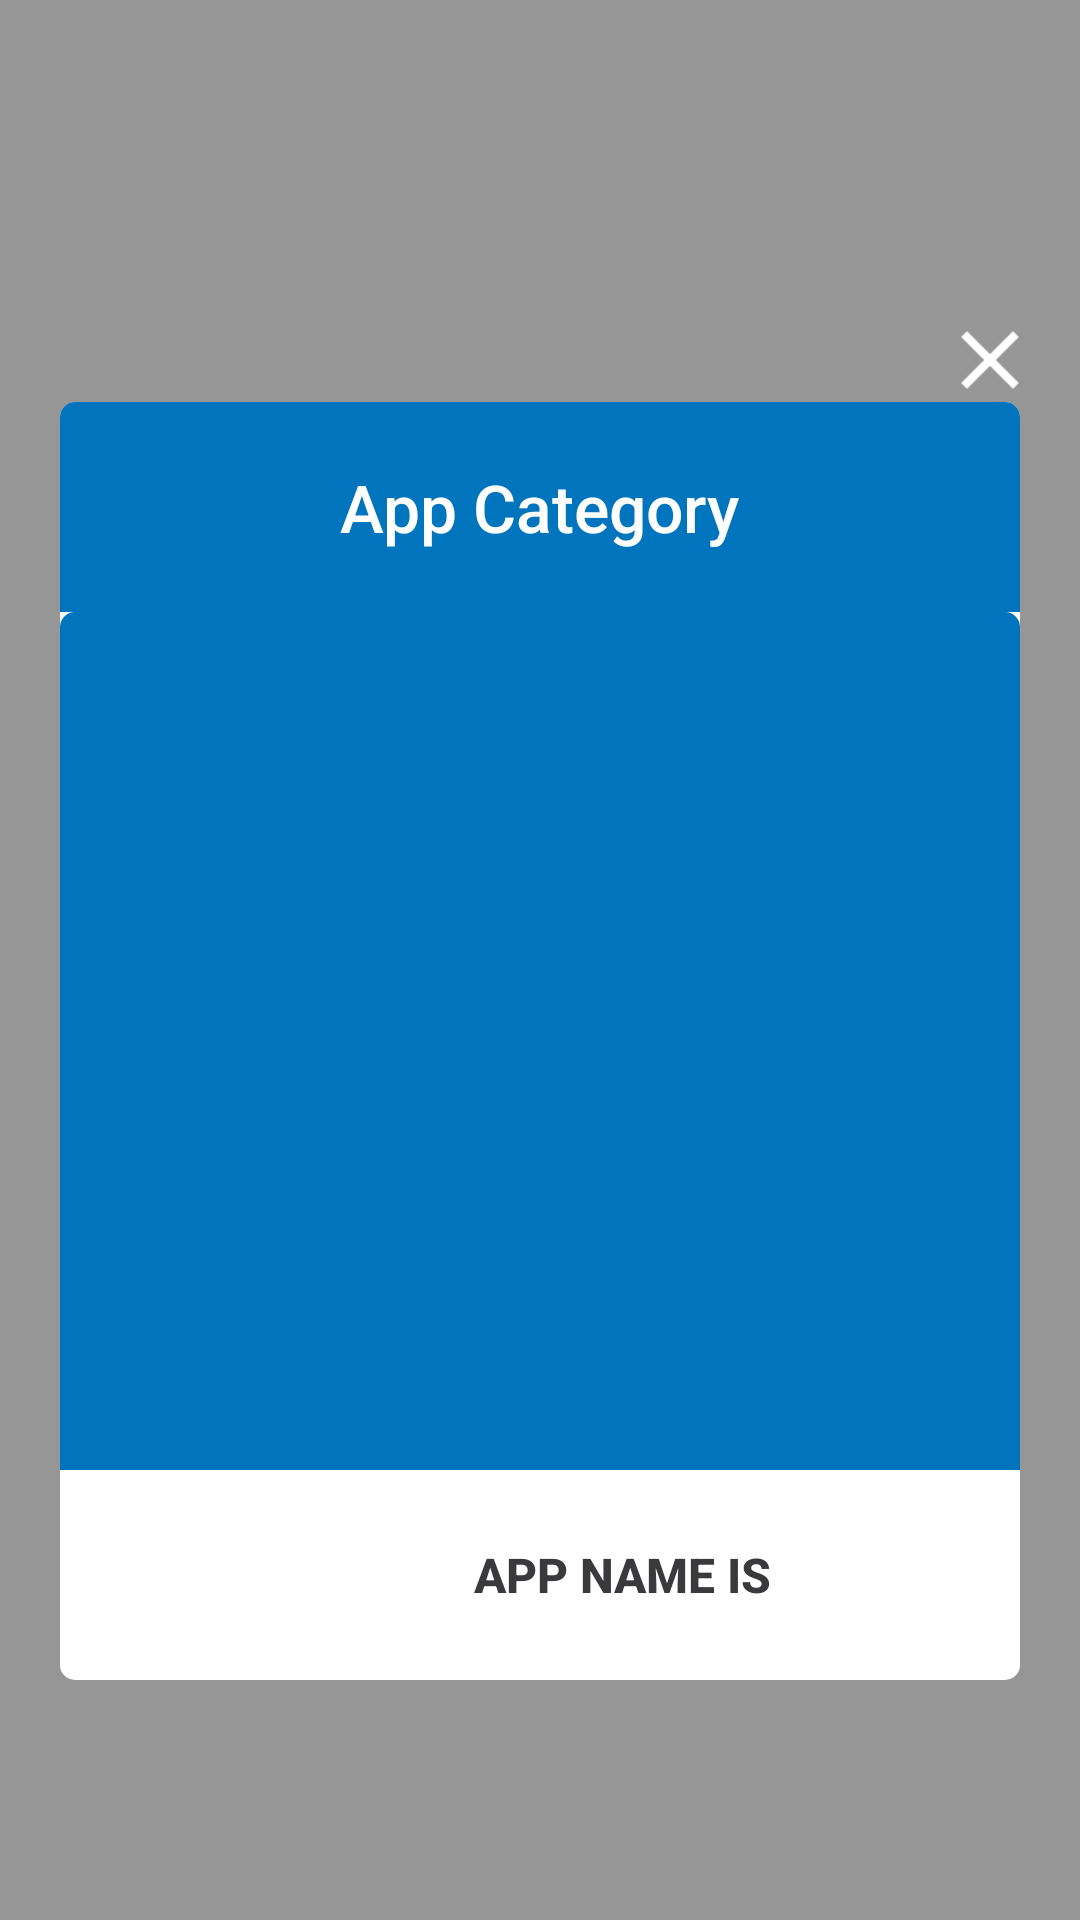

Icon bounding boxes for this 1080w x 1920h phone screenshot, format bbox=[x1, y1, x2, y2]:
close: bbox=[961, 331, 1019, 389]
